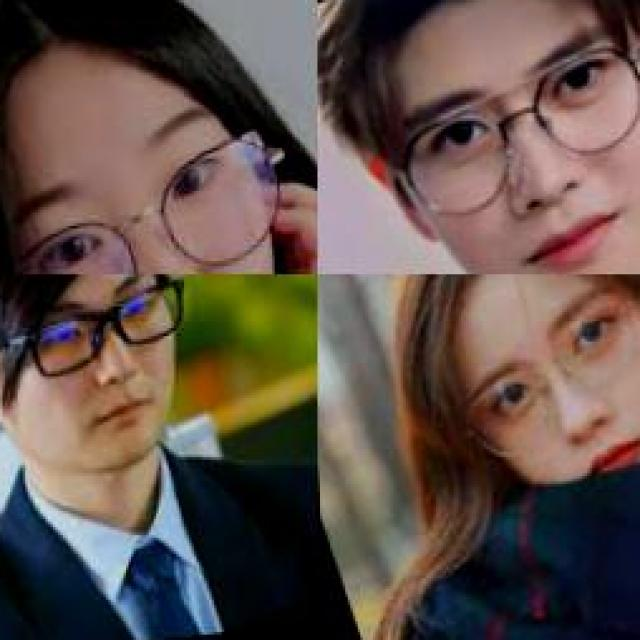Glasses: (365, 29, 640, 248), (0, 121, 315, 272), (433, 290, 640, 476), (0, 274, 197, 417)
